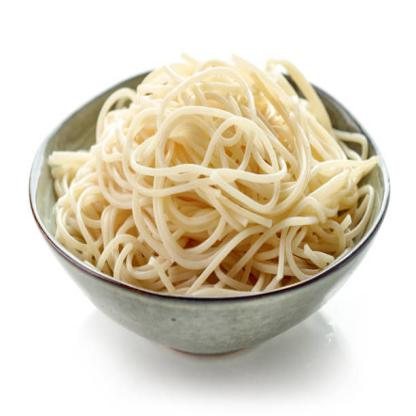Noodles: (48, 47, 379, 295)
